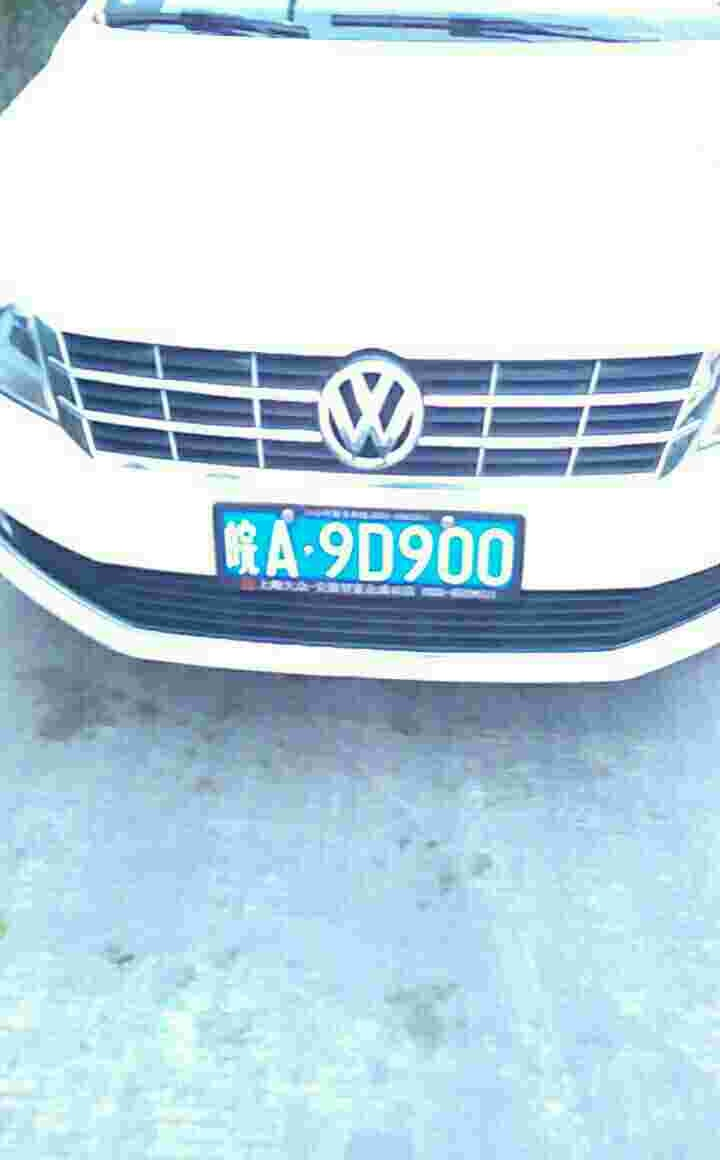license_plate: (207, 512, 530, 588)
